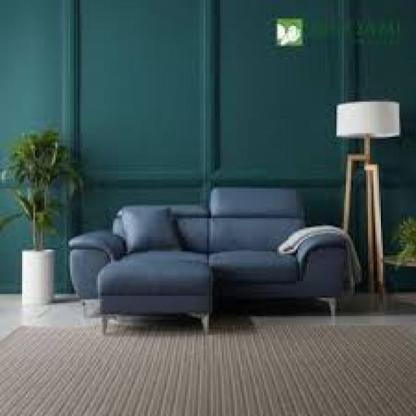Sofa: (56, 175, 372, 352)
